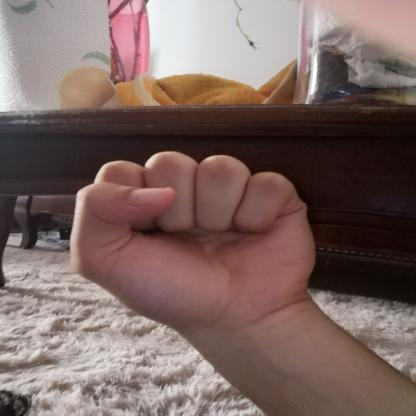SAD: (53, 144, 332, 343)
